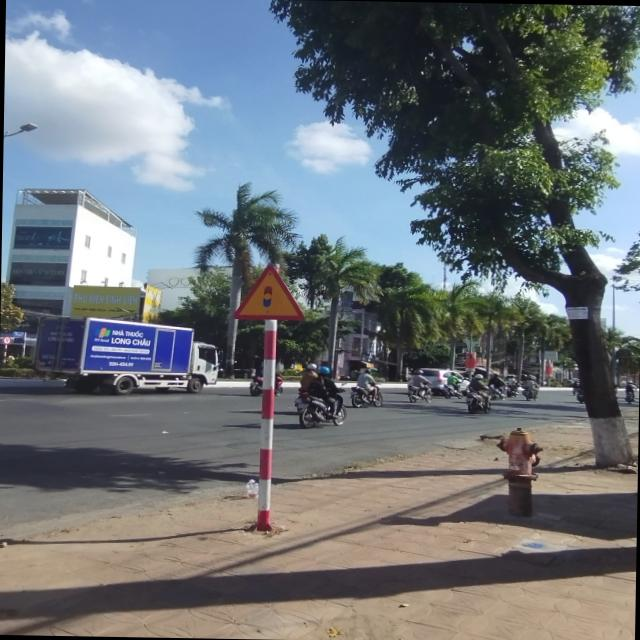Duong_Co_Go_Giam_Toc: (232, 262, 304, 321)
